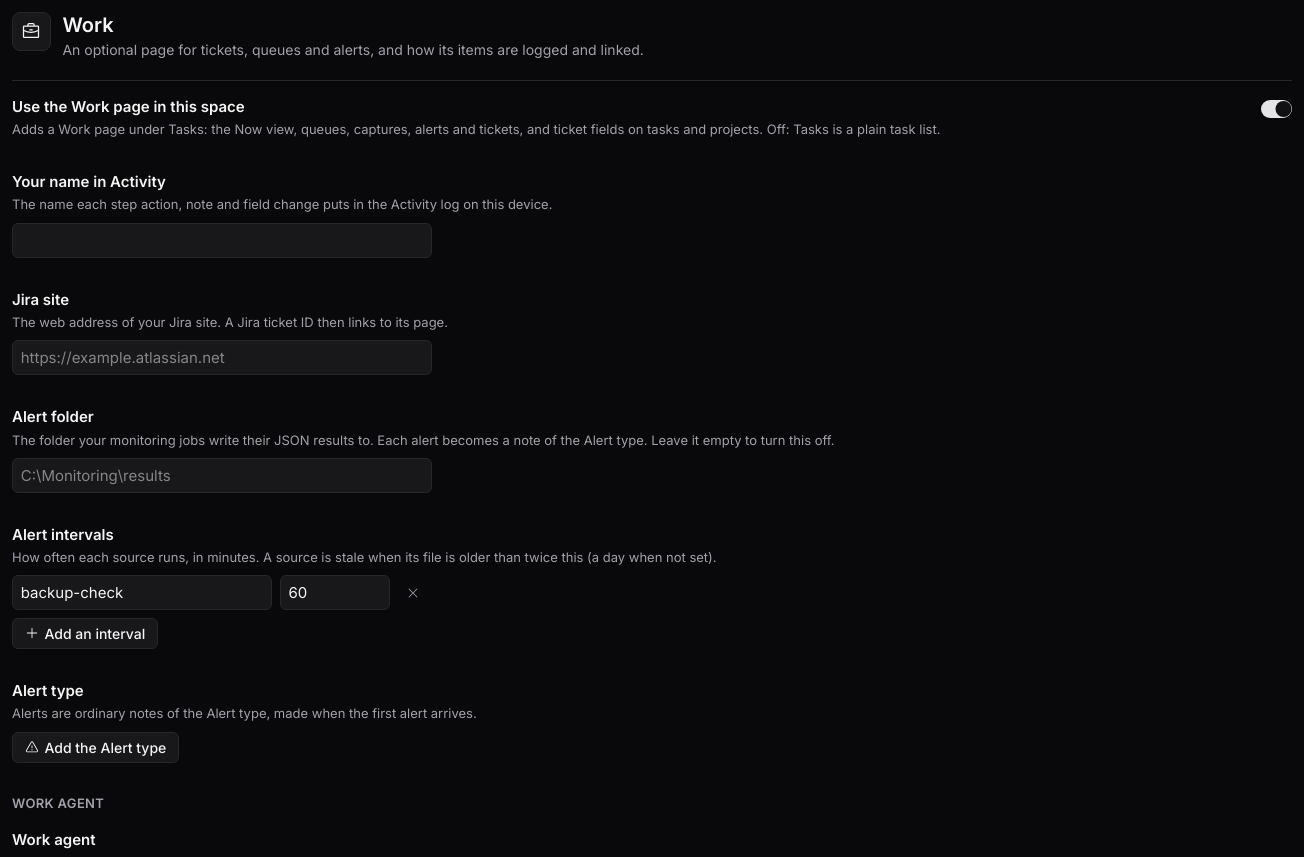
WorkSection alert rows › test stored intervals show as rows, and a 422 shows the message
Expected: the field named "Source" holds "backup-check", [12, 575, 272, 610]
Replace the text in the number field named "Minutes" with "99999": (335, 593) [280, 575, 390, 610]
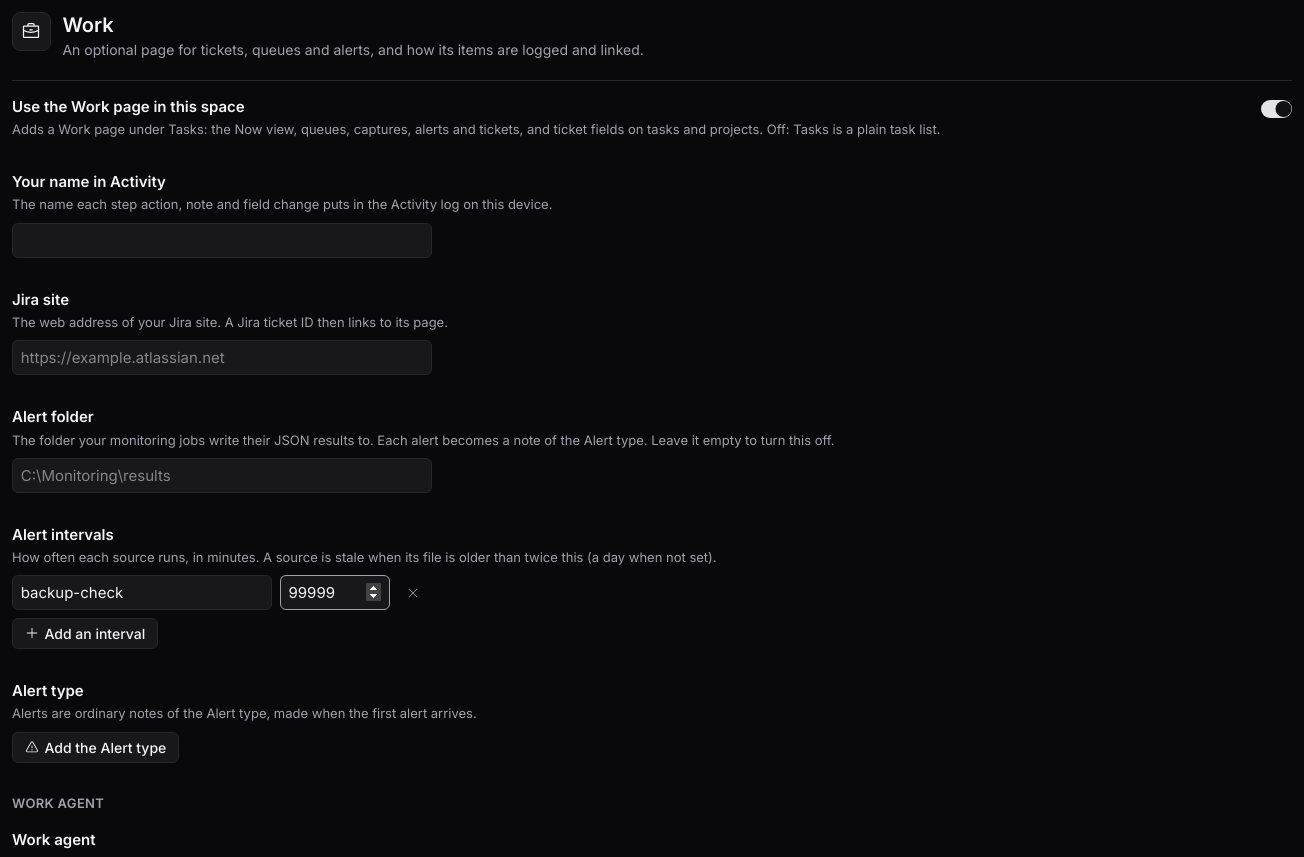
Press Tab
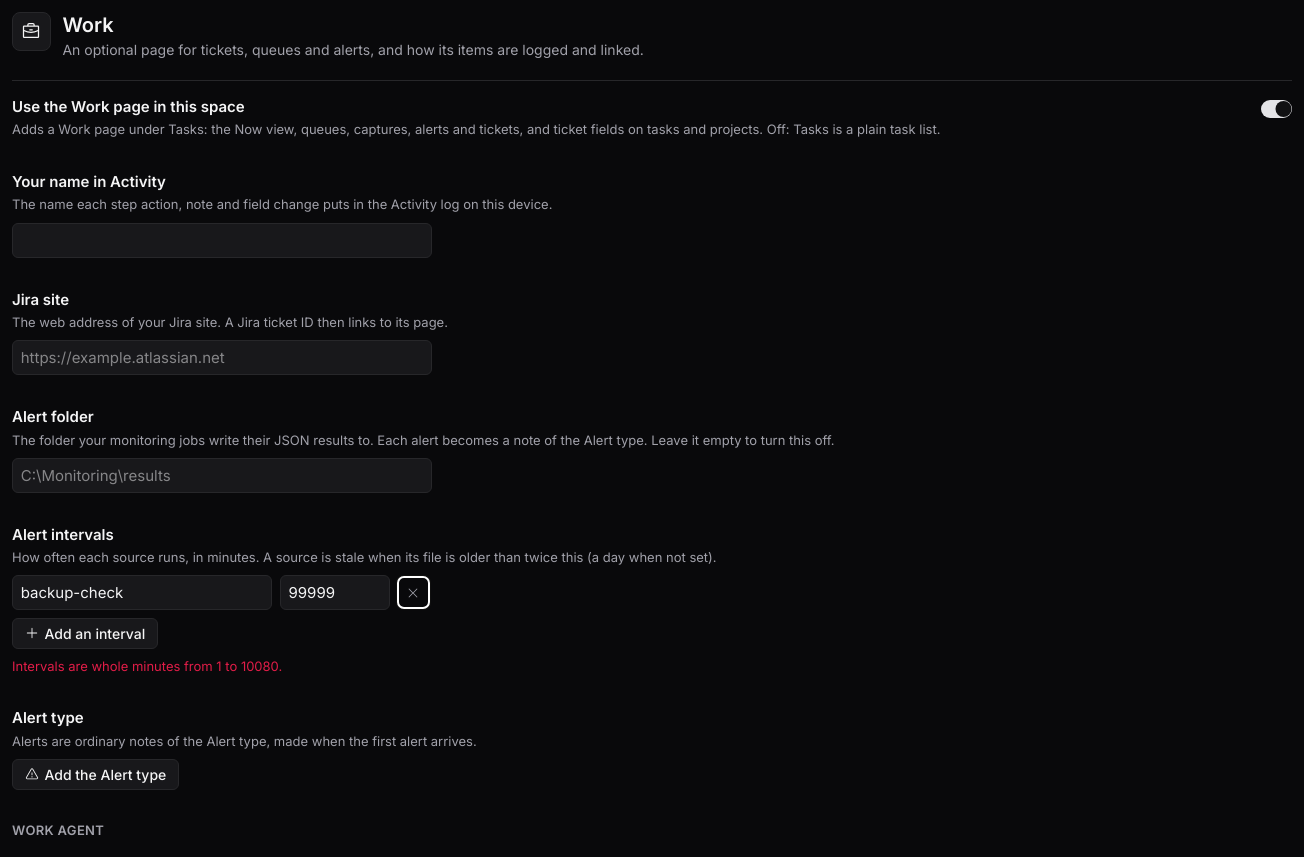
Now the message reads "Intervals are whole minutes from 1 to 10080.", box [12, 658, 282, 674]
